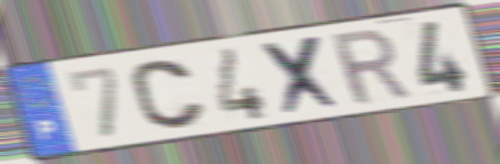4: (414, 17, 472, 97), (216, 45, 269, 123)
7: (62, 63, 122, 141)
C: (127, 58, 209, 132)
R: (326, 25, 415, 109)
X: (257, 32, 346, 119)
